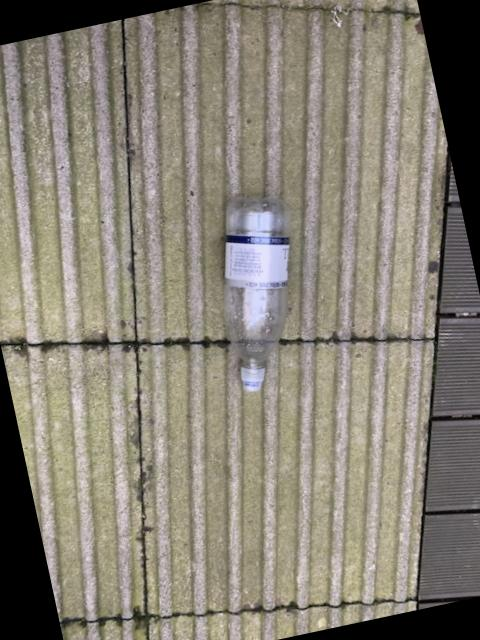plastic: (225, 197, 291, 391)
